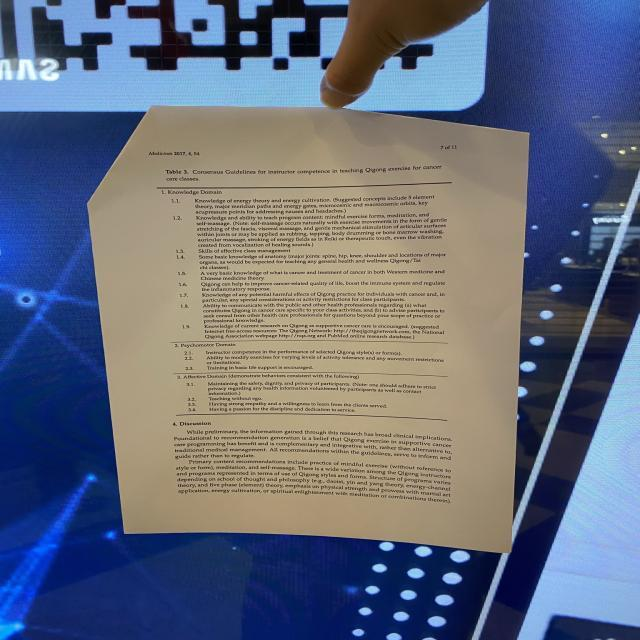document: (88, 106, 528, 552)
